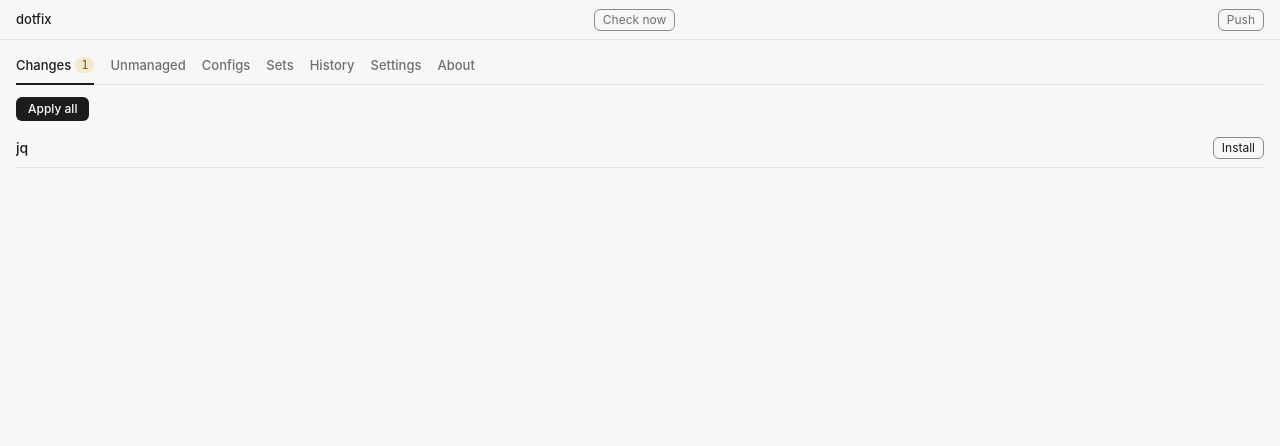
App › checks now through the refresh command, not a plain re-read
Expected: the text "jq" is shown, [16, 138, 28, 158]
Click the button "Check now" at [635, 20], box [594, 8, 675, 30]
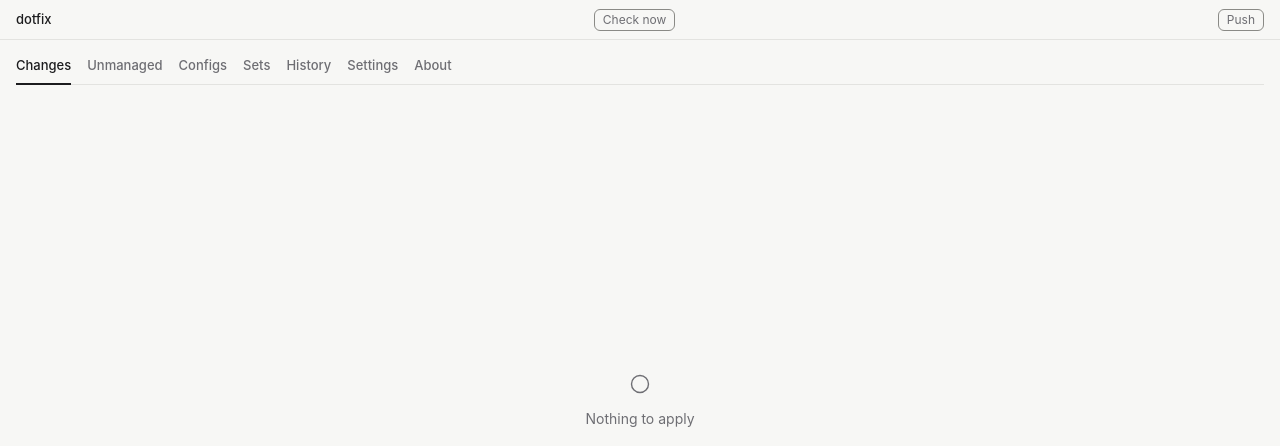
Expected: the text "Nothing to apply" is shown, [585, 409, 694, 429]
